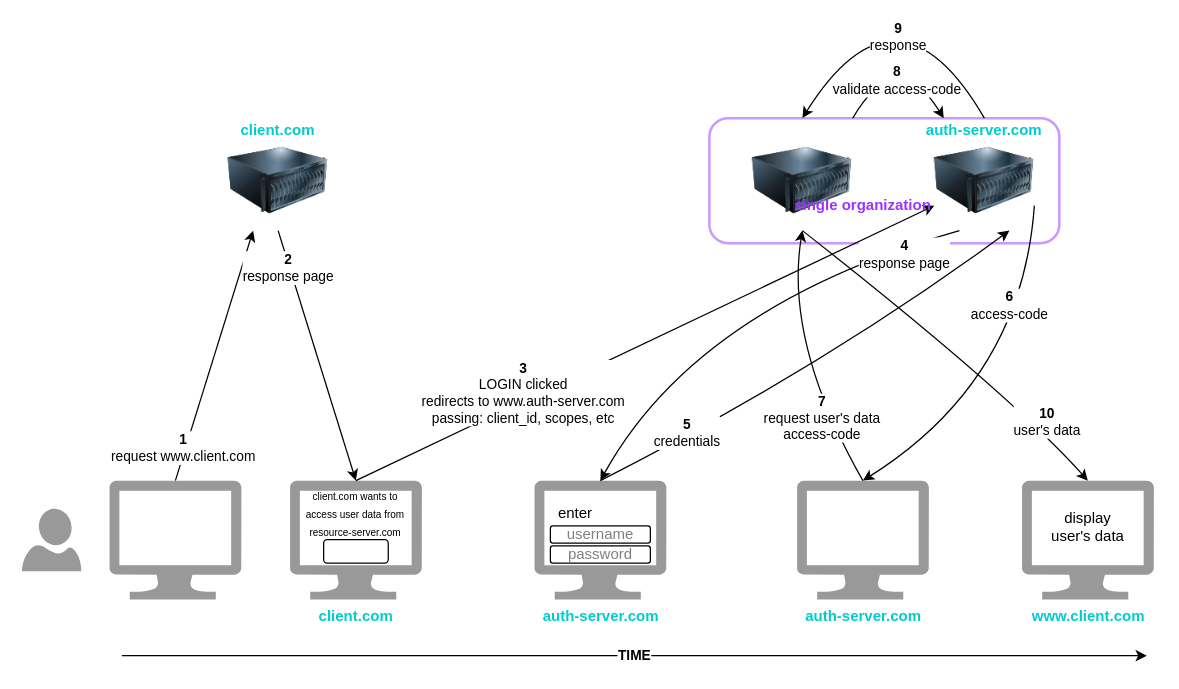
This 1179x689 diagram has some shape labels left out. The shapes that lost their labels are listed below. From the top down, each one's centre as x and y in pixels, then its label:
At point (802, 180): "resource-server.com".
At point (51, 539): "User".
At point (175, 539): "blank".
At point (355, 550): "LOGIN".
